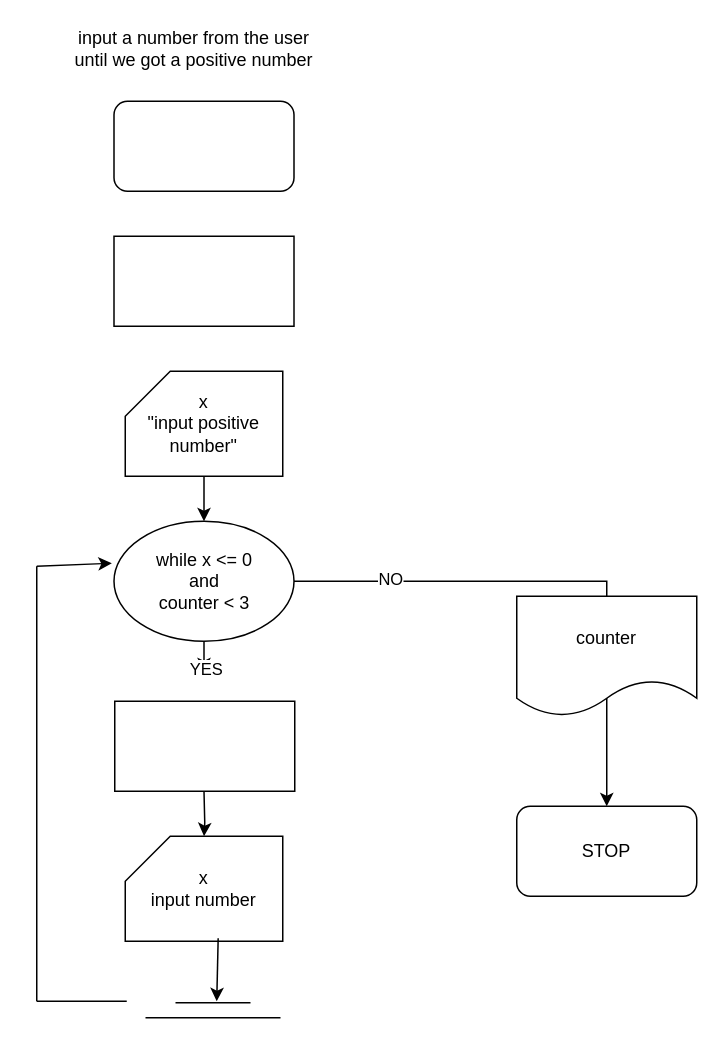
The diagram is 723 pixels wide and 1046 high, and some of its shapes have lost their labels. Here are the shapes that lost their labels. From the top down, the centre of each, then its label:
the point at 203,145: START
the point at 203,280: x: int counter: int = 1
the point at 204,745: counter += 1
